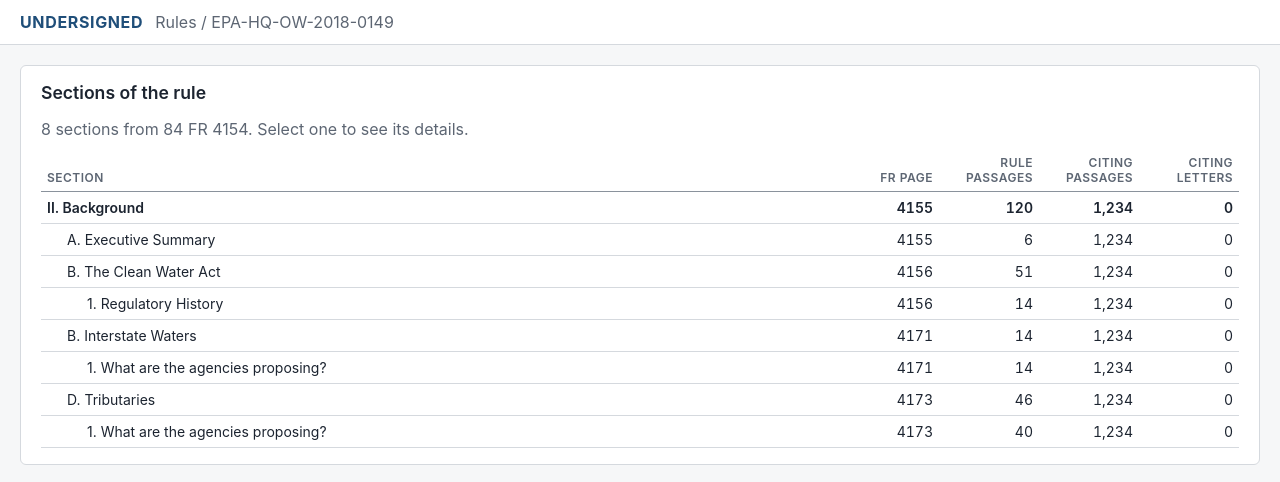
shows citing counts once the API has them
The width and height of the screenshot is (1280, 482).
Click the button "II. Background" at (96, 208), box [47,199,144,216]
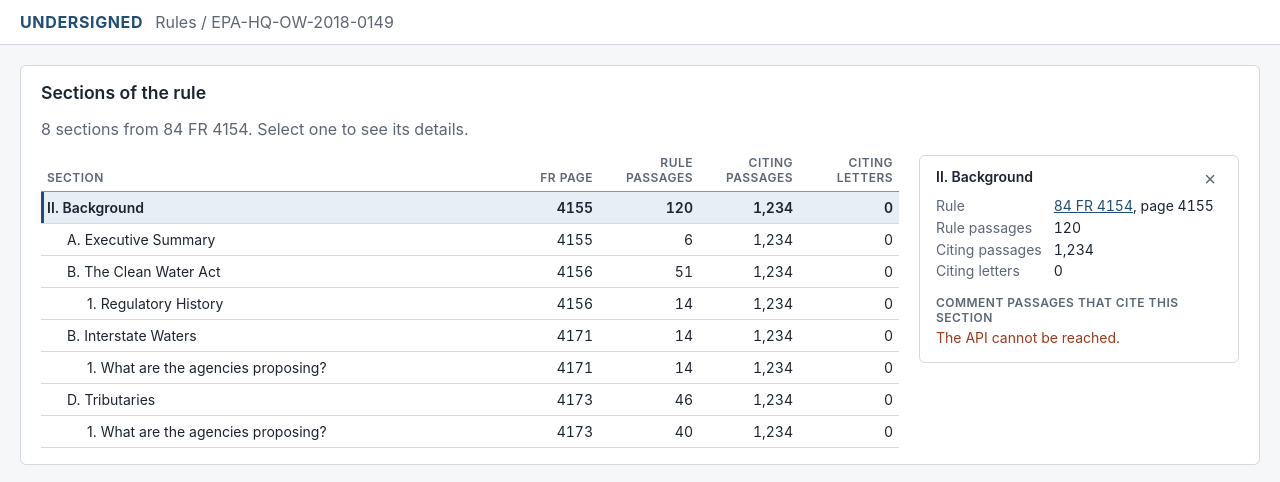
Now the text "1,234" is shown, box [1054,241,1094,258]
